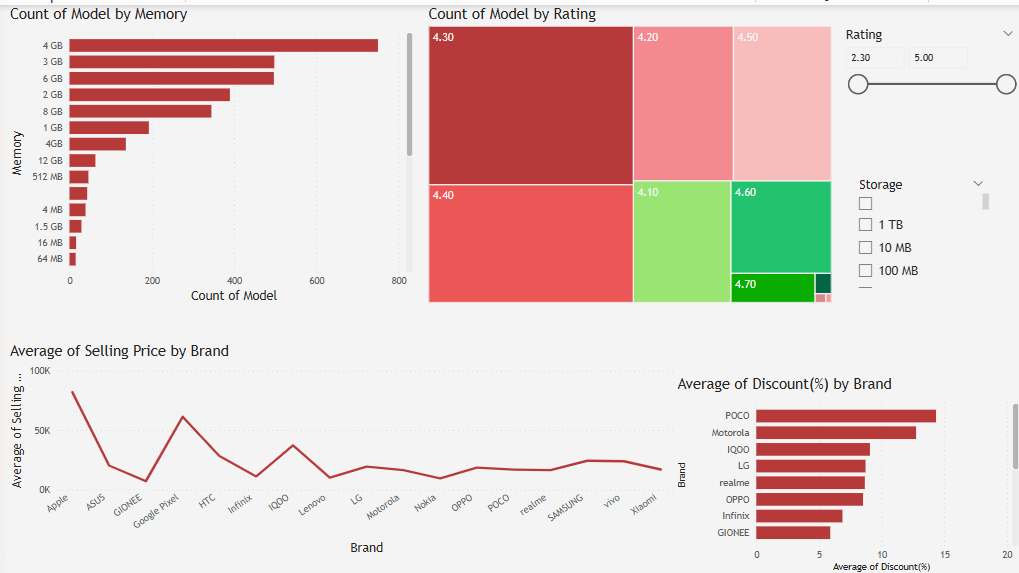

Layout of this report page (visuals, bound fields, positions):
{"tool":"powerbi","page":{"name":"Page 2","canvas":[1280,720],"ordinal":1},"visuals":[{"type":"barChart","fields":{"Category":["Flipkart_Mobiles.Memory"],"Y":["CountNonNull(Flipkart_Mobiles.Model)"]},"box":[0,0,517.3,379.5],"z":0},{"type":"treemap","fields":{"Values":["CountNonNull(Flipkart_Mobiles.Model)"],"Group":["Flipkart_Mobiles.Rating"]},"box":[526.7,0,517.3,379.5],"z":1000},{"type":"slicer","fields":{"Values":["Flipkart_Mobiles.Storage"]},"box":[1061,211.4,181.2,149.1],"z":2000},{"type":"lineChart","fields":{"Y":["Avg(Flipkart_Mobiles.Selling Price)"],"Category":["Flipkart_Mobiles.Brand"]},"box":[0,424.8,847.7,271.9],"z":3000},{"type":"barChart","fields":{"Category":["Flipkart_Mobiles.Brand"],"Y":["Avg(Flipkart_Mobiles.Discount(%))"]},"box":[840.1,466.3,439.9,253],"z":4000},{"type":"slicer","fields":{"Values":["Flipkart_Mobiles.Rating"]},"box":[1044,22.7,236,168],"z":5000}]}

Visuals, with their boxes in screenshot pixels (x1, y1, x2, y2), scaled from the page's 1280x720 canvas onto the 1019x573 screenshot:
barChart - Flipkart_Mobiles.Memory x CountNonNull(Flipkart_Mobiles.Model): bbox=(0, 0, 412, 302)
treemap - CountNonNull(Flipkart_Mobiles.Model) x Flipkart_Mobiles.Rating: bbox=(419, 0, 831, 302)
slicer - Flipkart_Mobiles.Storage: bbox=(845, 168, 989, 287)
lineChart - Avg(Flipkart_Mobiles.Selling Price) x Flipkart_Mobiles.Brand: bbox=(0, 338, 675, 554)
barChart - Flipkart_Mobiles.Brand x Avg(Flipkart_Mobiles.Discount(%)): bbox=(669, 371, 1018, 572)
slicer - Flipkart_Mobiles.Rating: bbox=(831, 18, 1018, 152)
